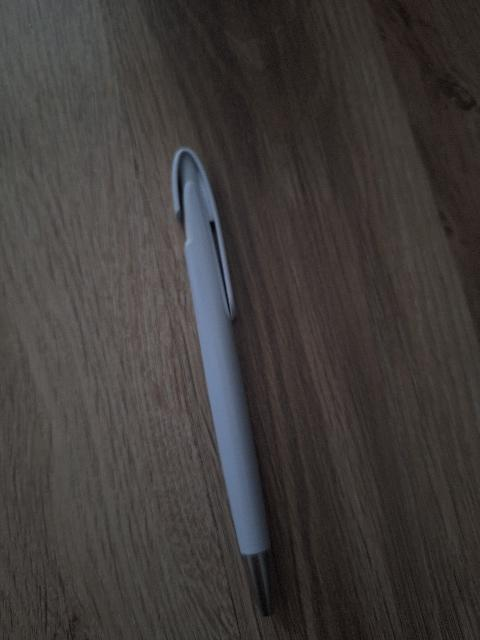writing_tool: (165, 144, 279, 622)
